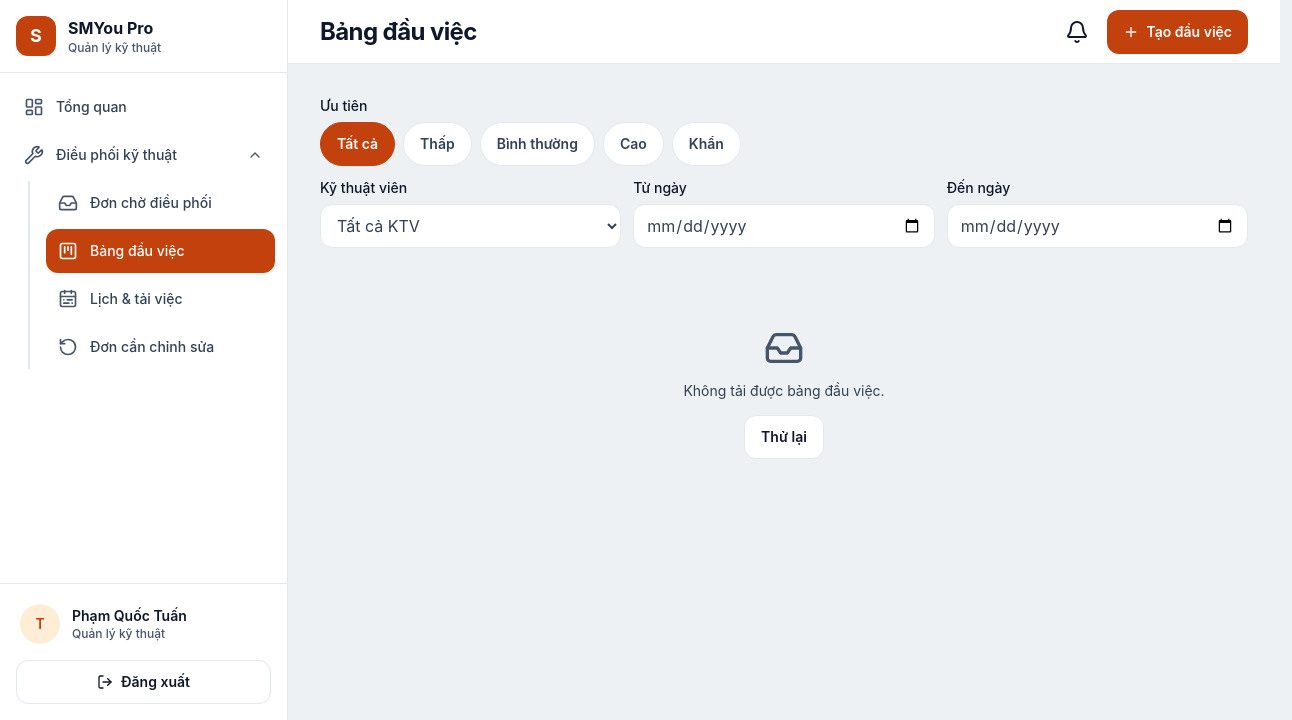
Bảng đầu việc › AC-DSP-089 lỗi tải desktop: EmptyState + Thử lại gọi lại
Check: the text "Không tải được bảng đầu việc." is shown, box x1=683 y1=380 x2=885 y2=403
Step 1. Click the button "Thử lại" → (784, 437), box x1=744 y1=415 x2=824 y2=459
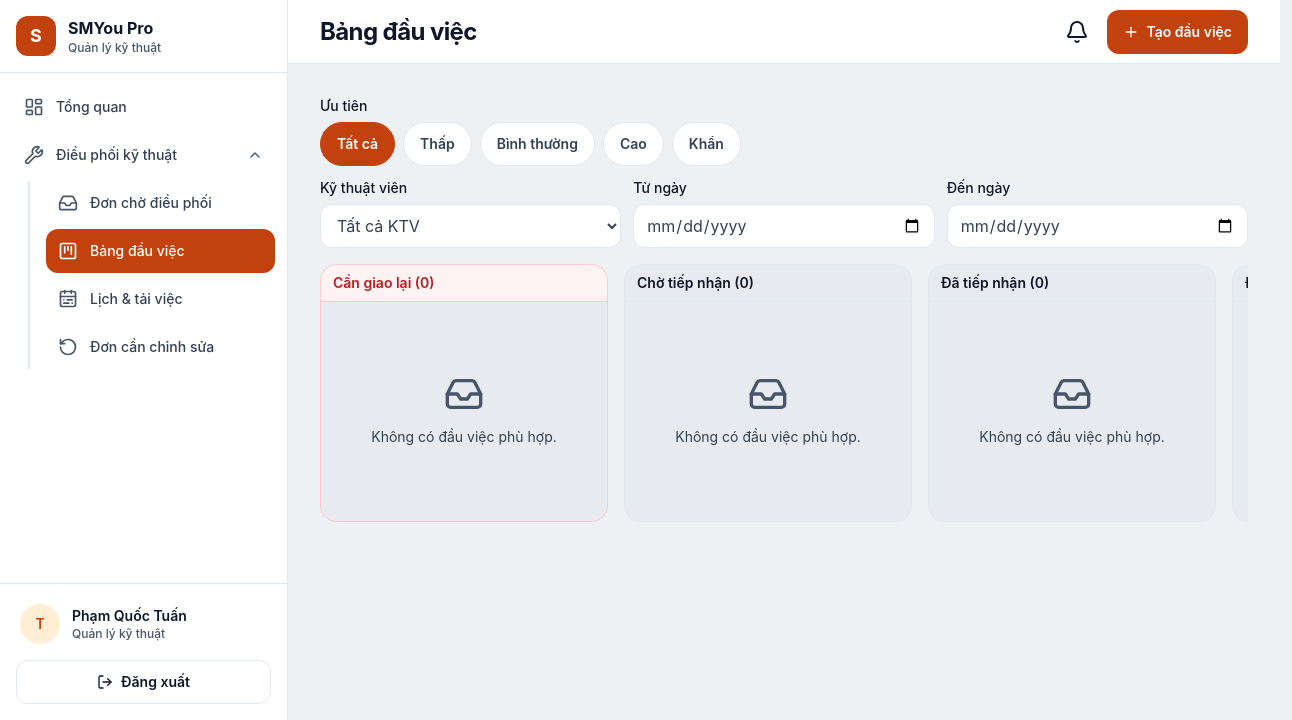
Check: the text "Không có đầu việc phù hợp." is shown 6 times
